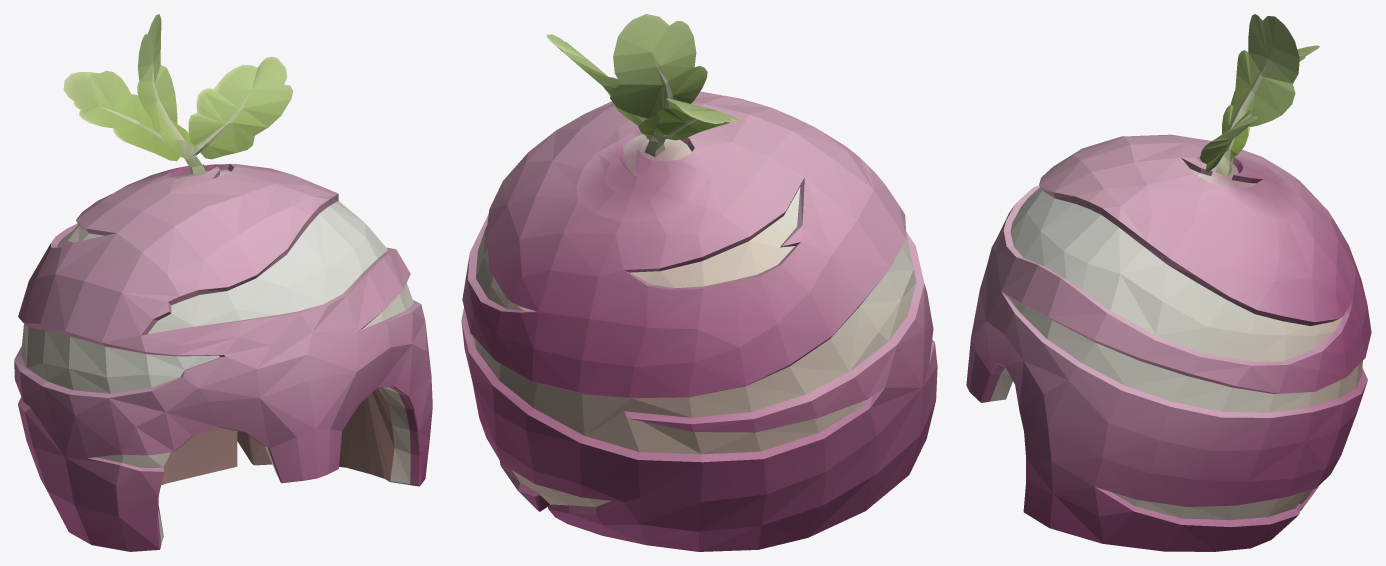
File: FarmingGingerHelmet.glb
3 views of the same model, side by side, from view 1: azimuth 30°, elevation 25°; view 2: azimuth 150°, elevation 25°; view 3: azimuth 270°, elevation 25° (orthographic). The views are drawn at different scales.
Parts seen in each view (by area): view 1: FarmingGingerHelmet; view 2: FarmingGingerHelmet; view 3: FarmingGingerHelmet.
Boxes of the visible parts, x1,y1,x2,y2 form: FarmingGingerHelmet: (14, 14, 432, 551); FarmingGingerHelmet: (461, 14, 937, 551); FarmingGingerHelmet: (966, 14, 1371, 551).
Bounding box in the file's own units: 0.5484 × 0.6775 × 0.5233.
